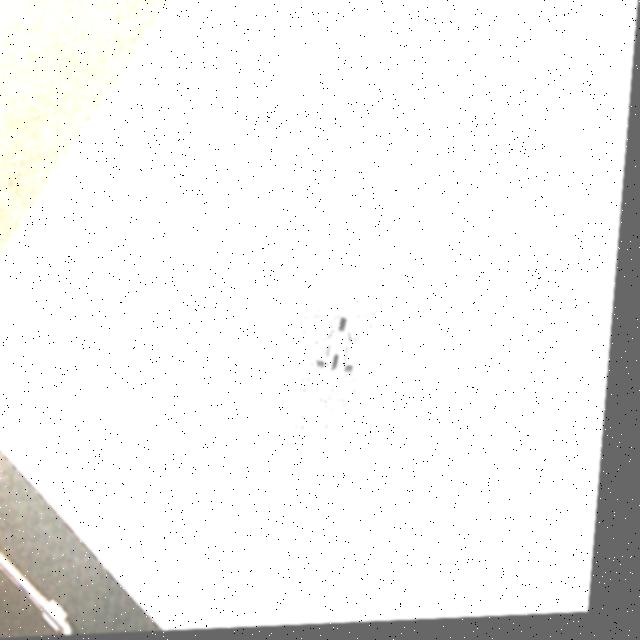adapter: (296, 301, 386, 433)
